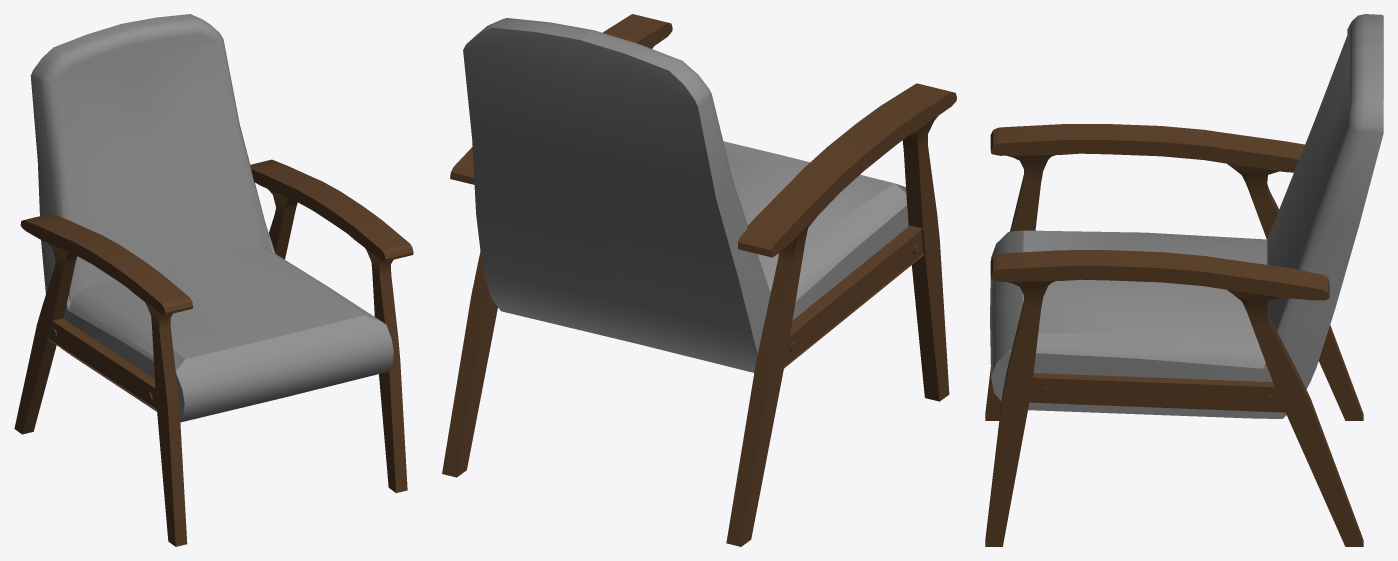
Rendered from LoungeChair.fbx.
3 renders of one model, left to right at view 1: azimuth 30°, elevation 25°; view 2: azimuth 150°, elevation 25°; view 3: azimuth 270°, elevation 25°, orthographic. The views are drawn at different scales.
Visible parts, largest first — view 1: Cube.003, Cube.001; view 2: Cube.003, Cube.001; view 3: Cube.003, Cube.001.
Boxes of the visible parts, x1,y1,x2,y2 form: Cube.003: (30, 14, 393, 422); Cube.001: (14, 159, 413, 546); Cube.003: (463, 18, 908, 372); Cube.001: (442, 14, 956, 546); Cube.003: (990, 14, 1383, 418); Cube.001: (985, 124, 1363, 546).
Bounding box in the file's own units: 185 × 264 × 219.
